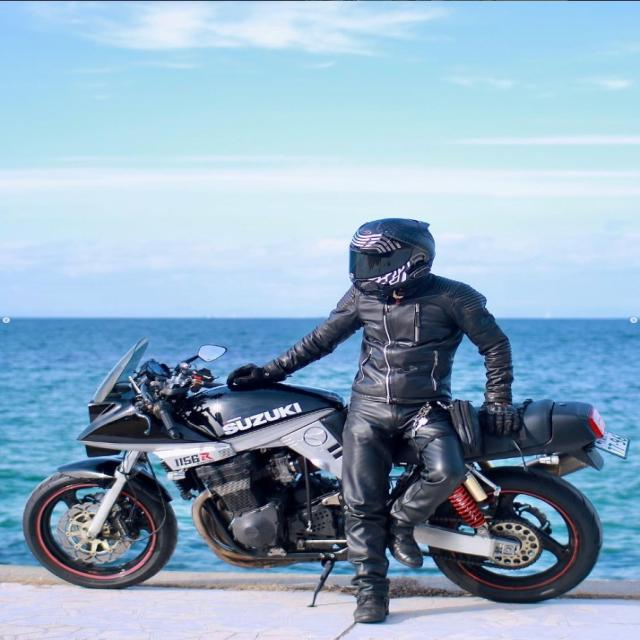helmet: (344, 214, 441, 299)
